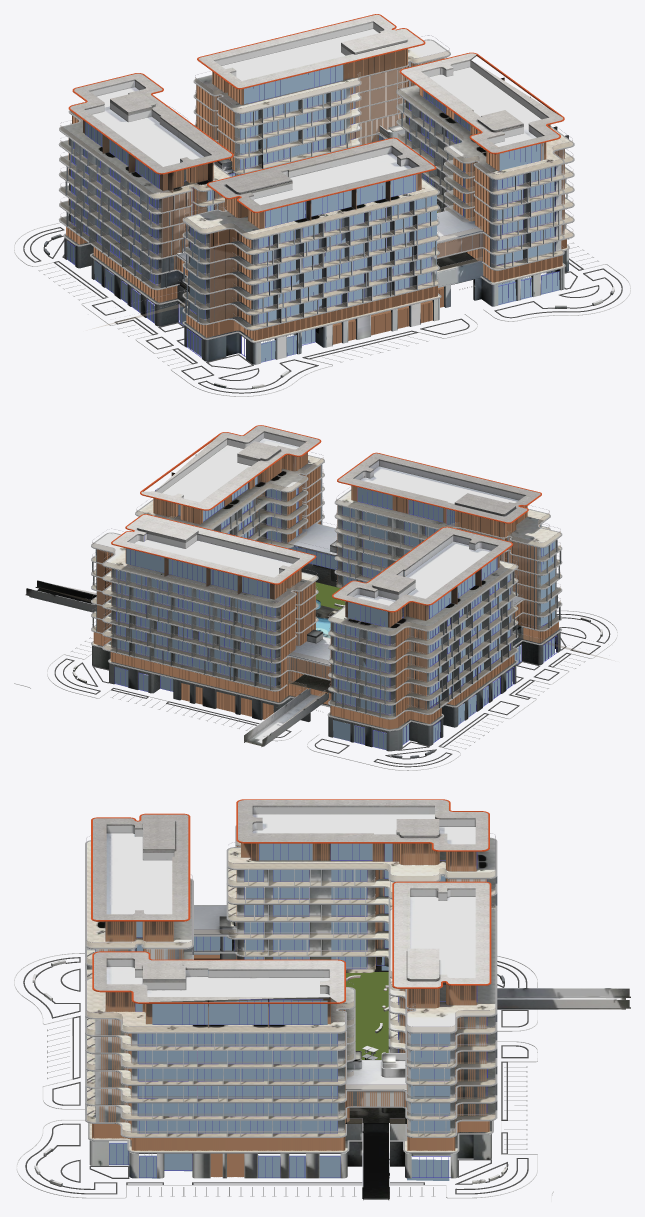
The model's file is MAG_11_build_B.glb.
3 renders of one model, top to bottom at view 1: azimuth 30°, elevation 25°; view 2: azimuth 150°, elevation 25°; view 3: azimuth 270°, elevation 25°, orthographic. The views are drawn at different scales.
Visible parts, largest first — view 1: B_Build; view 2: B_Build; view 3: B_Build.
Part boxes in pixels (left/top/right/bottom): B_Build: left=14, top=14, right=630, bottom=396; B_Build: left=14, top=425, right=617, bottom=770; B_Build: left=14, top=799, right=630, bottom=1201.
Size of the model in its own units: 165 by 43.69 by 135.
17 materials, 3 textured.
